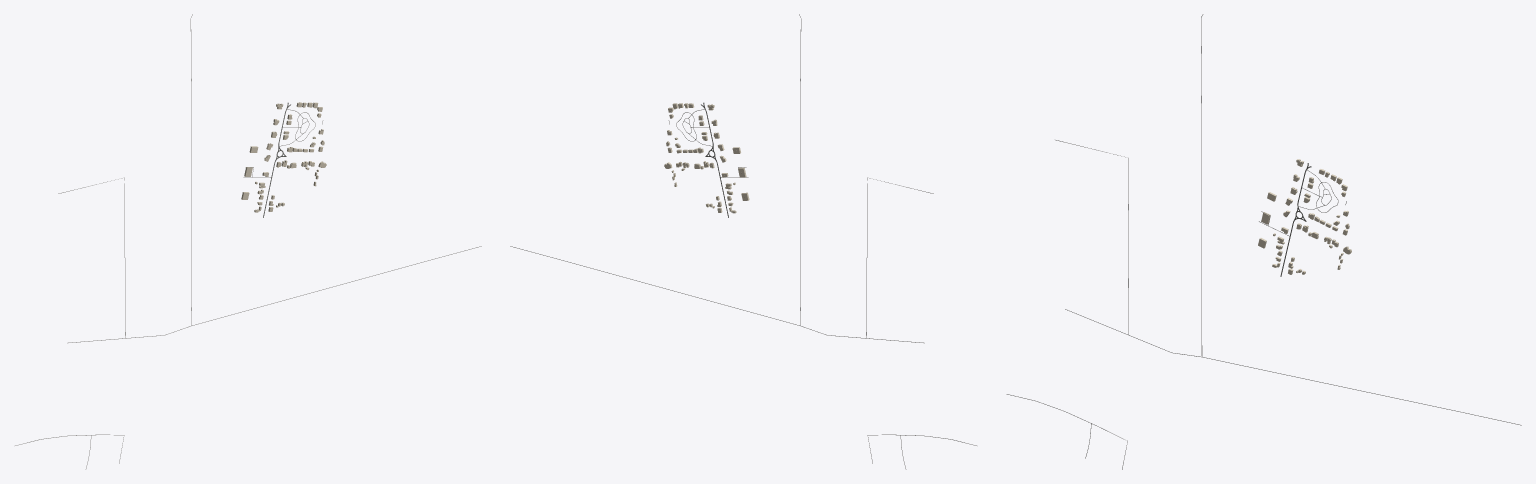
File: historic-palestine-06_23_3478_3178.glb
3 views of the same model, side by side, from view 1: azimuth 30°, elevation 25°; view 2: azimuth 150°, elevation 25°; view 3: azimuth 330°, elevation 25° (orthographic). The views are drawn at different scales.
Bounding box in the file's own units: 1737 × 1533 × 8.7.
